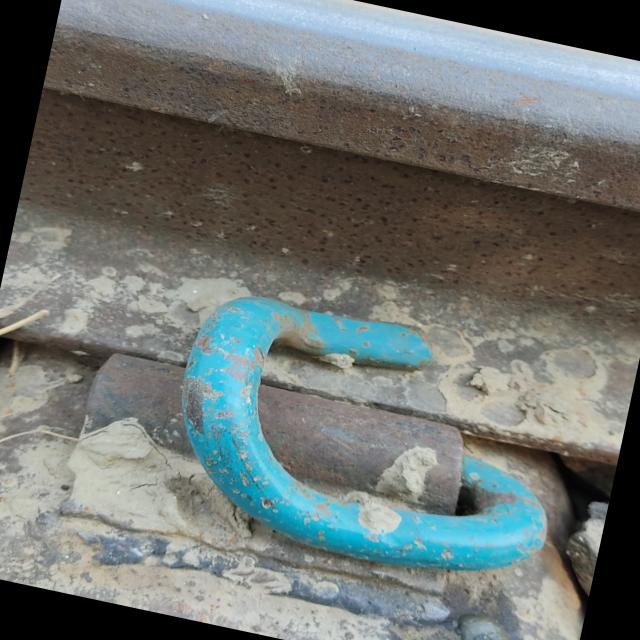track_bolt: (132, 264, 604, 614)
